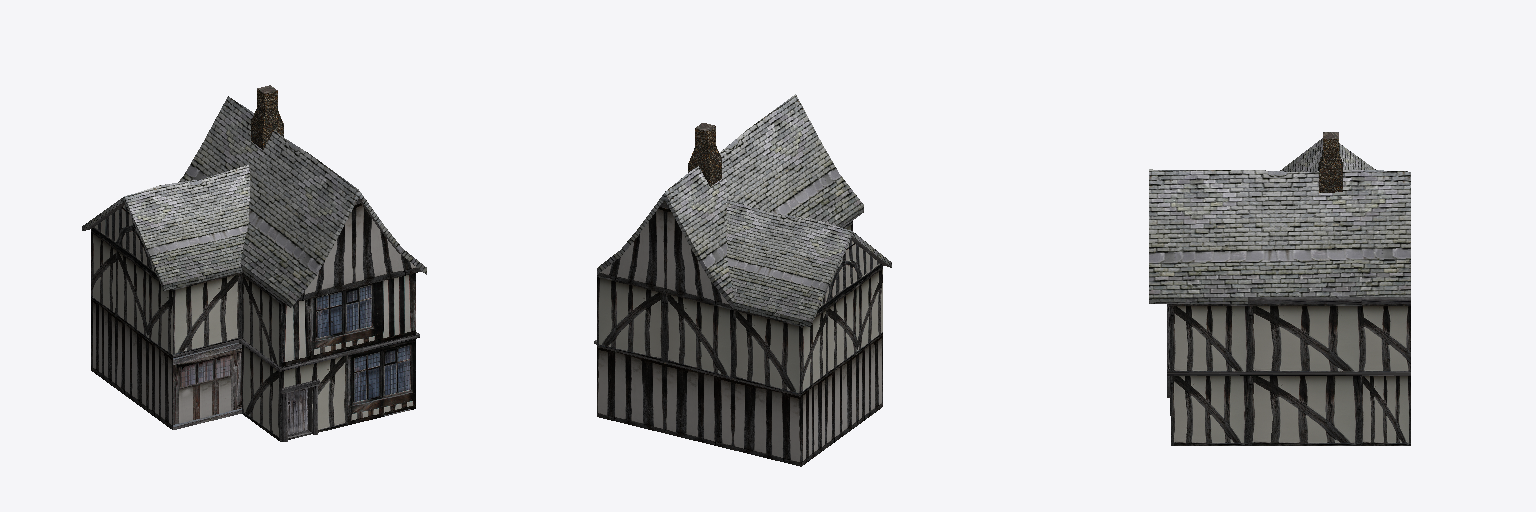
3 renders of one model, left to right at view 1: azimuth 30°, elevation 25°; view 2: azimuth 150°, elevation 25°; view 3: azimuth 270°, elevation 25°, orthographic.
Visible parts, largest first — view 1: _0_Form6, _0_Form19, _0_Form8, _0_Form13; view 2: _0_Form6, _0_Form19, _0_Form8; view 3: _0_Form19, _0_Form6, _0_Form8.
Part boxes in pixels (bbox=[...]): _0_Form6: bbox=[82, 97, 358, 441]; _0_Form19: bbox=[228, 96, 426, 424]; _0_Form8: bbox=[251, 85, 283, 149]; _0_Form13: bbox=[281, 379, 319, 441]; _0_Form6: bbox=[665, 94, 891, 466]; _0_Form19: bbox=[594, 113, 769, 432]; _0_Form8: bbox=[688, 123, 721, 186]; _0_Form19: bbox=[1149, 169, 1410, 445]; _0_Form6: bbox=[1167, 138, 1406, 337]; _0_Form8: bbox=[1319, 132, 1342, 192].
Bounding box in the file's own units: 363 × 445 × 382.
Materials: 1 (1 with a texture image).